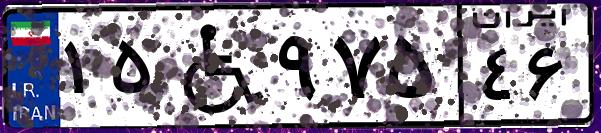1: (57, 26, 110, 100)
4: (475, 38, 525, 113)
5: (385, 28, 445, 110), (110, 28, 158, 98)
6: (525, 38, 570, 115)
7: (330, 28, 385, 110)
9: (270, 28, 330, 110)
ژ (معلولین و جانبازان): (158, 12, 270, 120)
